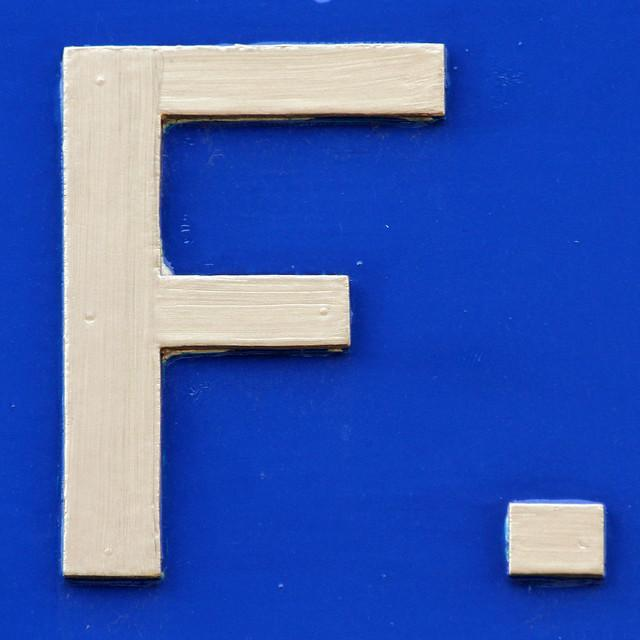F: (16, 7, 483, 619)
